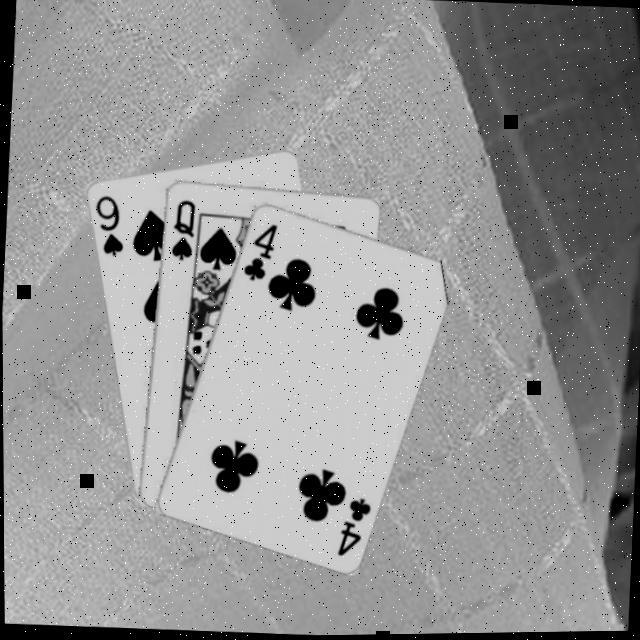4C: (334, 492, 375, 558), (242, 218, 282, 283)
9S: (92, 190, 130, 258)
QS: (169, 195, 200, 262)
